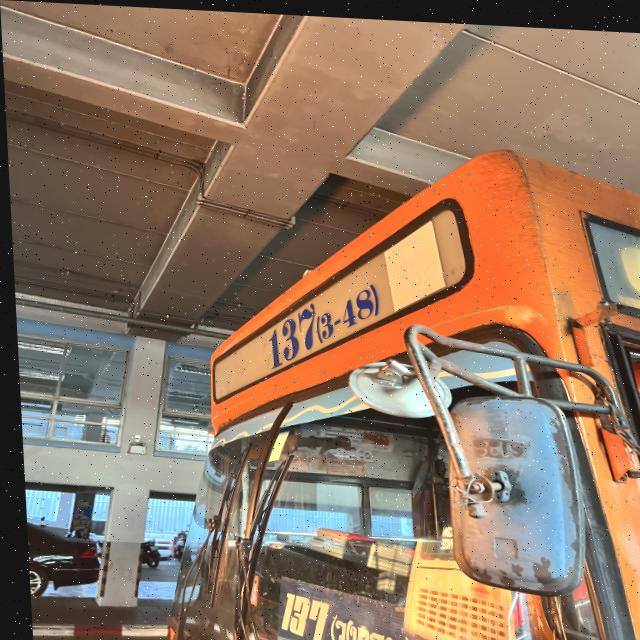BMTA-bus: (140, 130, 640, 640)
Bus-Line-Number: (253, 247, 386, 377)
Destination-Sign-Normal: (265, 572, 417, 640)
